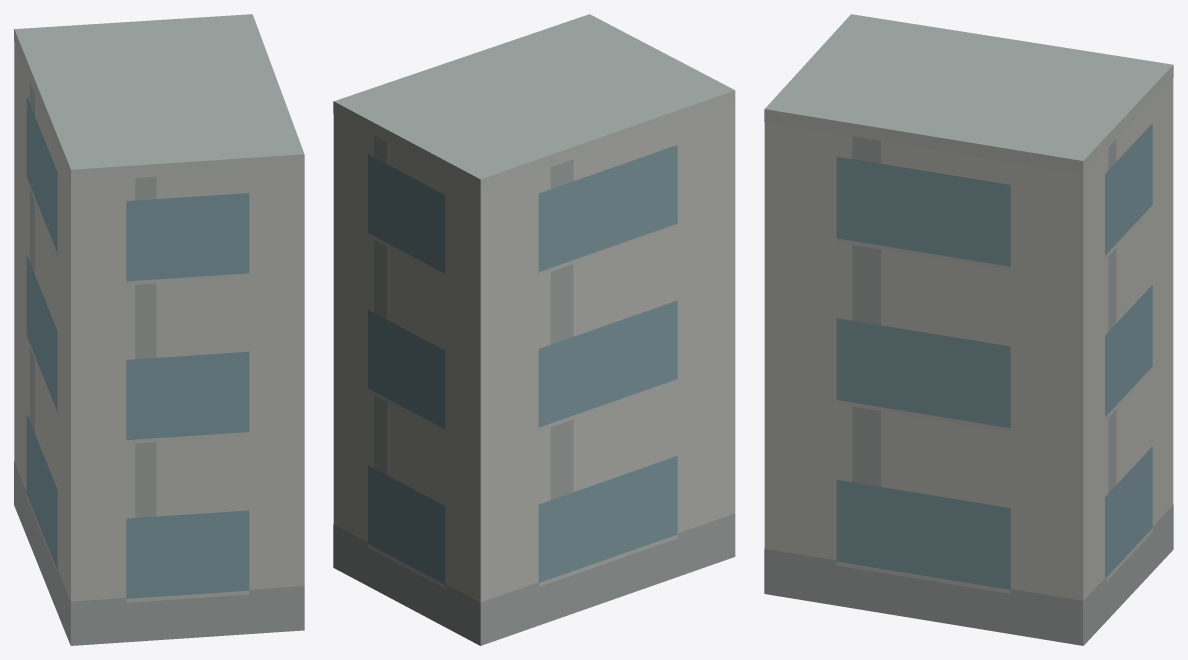
Rendered from survey-upis-32929340.glb.
3 renders of one model, left to right at view 1: azimuth 30°, elevation 25°; view 2: azimuth 150°, elevation 25°; view 3: azimuth 270°, elevation 25°, orthographic. The views are drawn at different scales.
Parts seen in each view (by area): view 1: survey-upis-32929340.tmp; view 2: survey-upis-32929340.tmp; view 3: survey-upis-32929340.tmp.
Boxes of the visible parts, x1,y1,x2,y2 form: survey-upis-32929340.tmp: [14, 14, 304, 645]; survey-upis-32929340.tmp: [333, 14, 735, 645]; survey-upis-32929340.tmp: [764, 14, 1173, 645].
Bounding box in the file's own units: 5.96 × 9.15 × 7.
